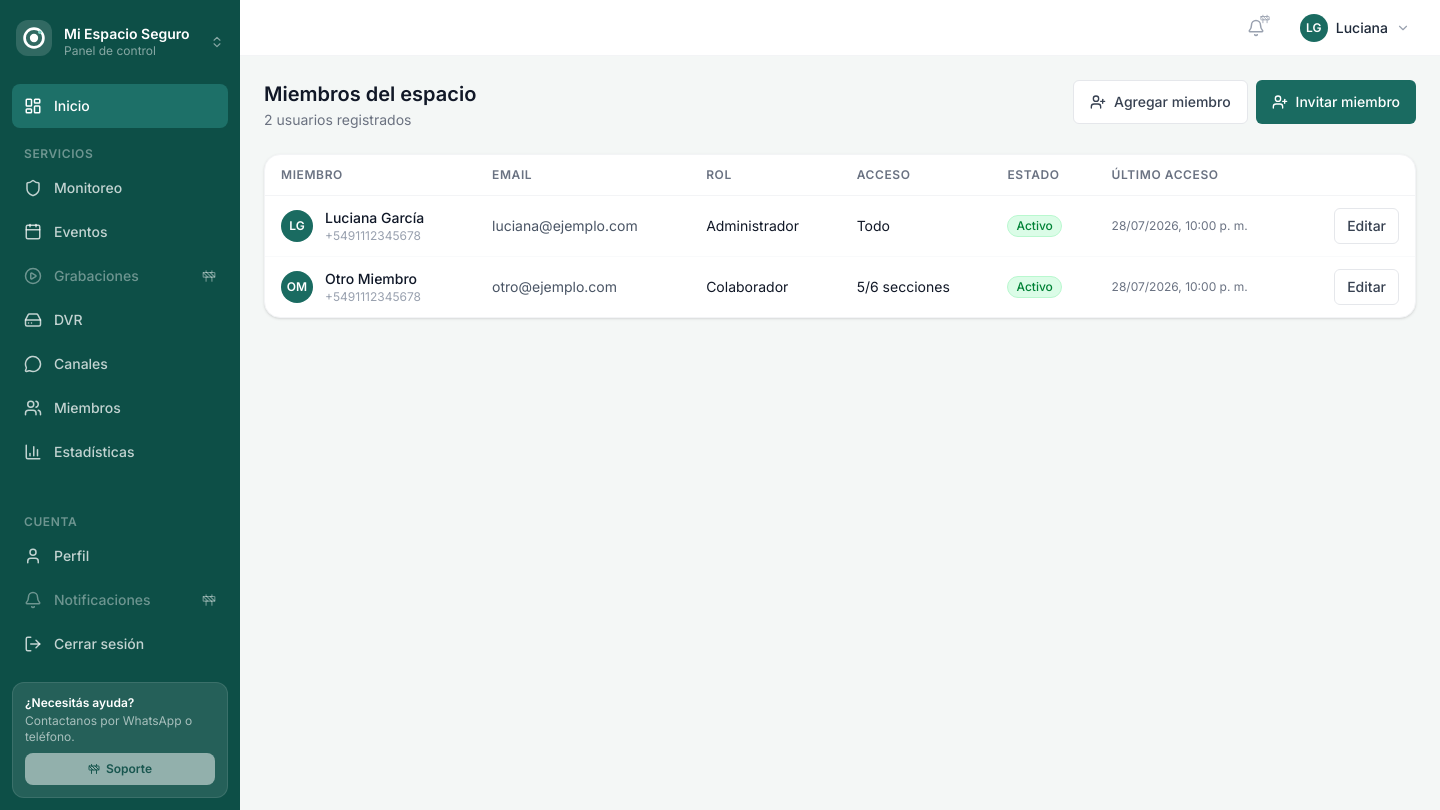
Scenario: MembersPage › shows the backend message when the save is refused
Click the button with aria-label "Editar otro@ejemplo.com" at [1367, 287], box x1=1334 y1=269 x2=1399 y2=305
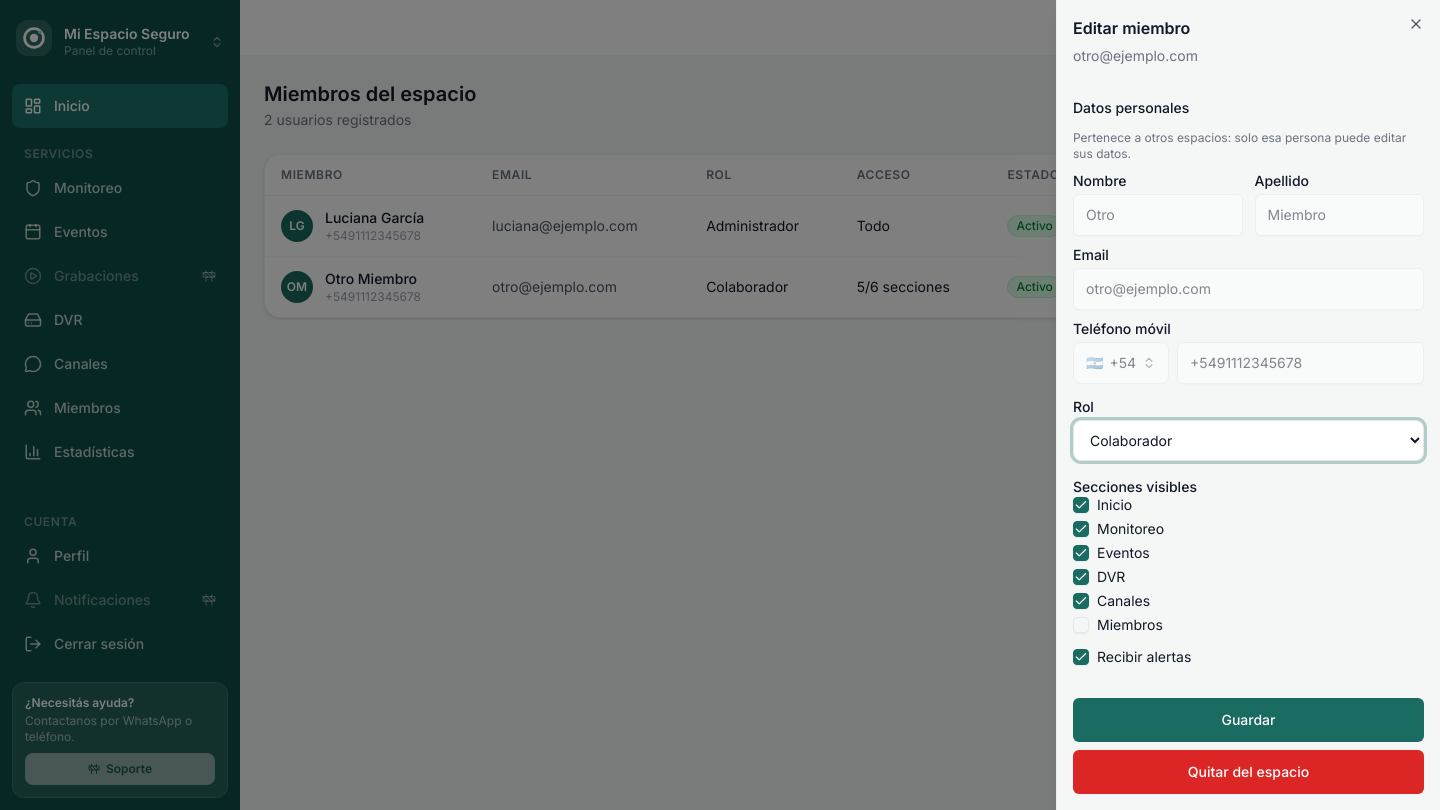
Click the button "Guardar" at [1248, 720], box x1=1073 y1=698 x2=1424 y2=742
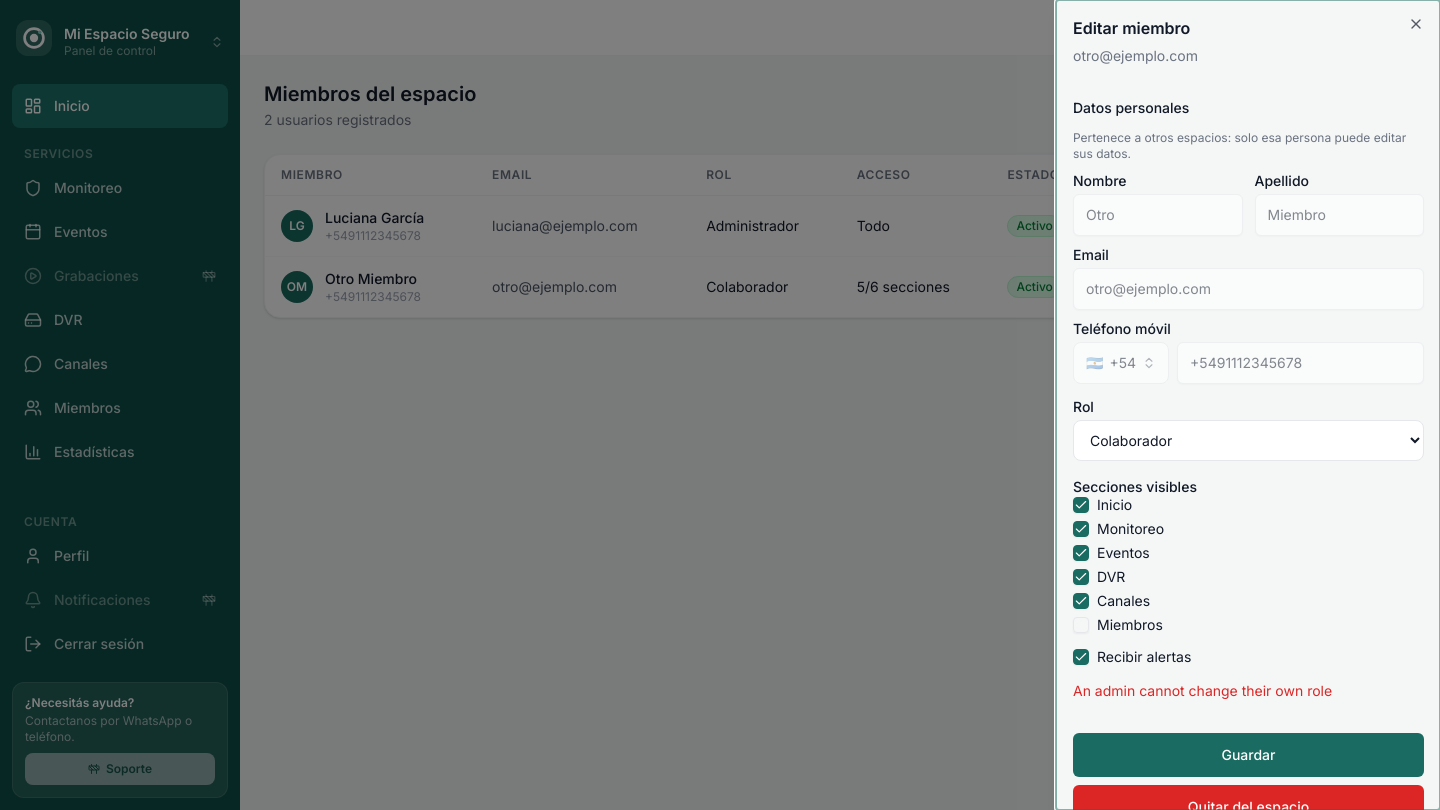
Check: the message reads "An admin cannot change their own role", box x1=1073 y1=682 x2=1332 y2=699
